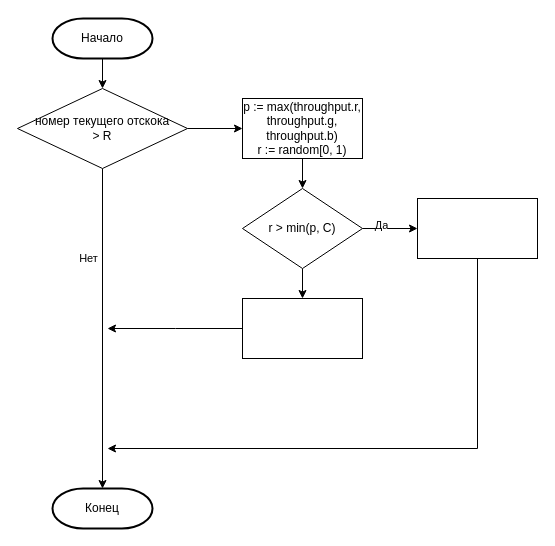
The diagram is 555 pixels wide and 546 high, and some of its shapes have lost their labels. Each missing label, with the centre of its shape:
radiance *= 1.0 / p: the point at 302,328
завершить трассировку: the point at 477,228
